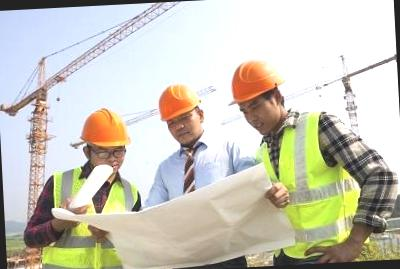helmet: (229, 55, 294, 102), (77, 103, 136, 152), (156, 81, 201, 122)
person: (225, 47, 400, 267), (17, 97, 145, 269), (139, 80, 252, 202)
